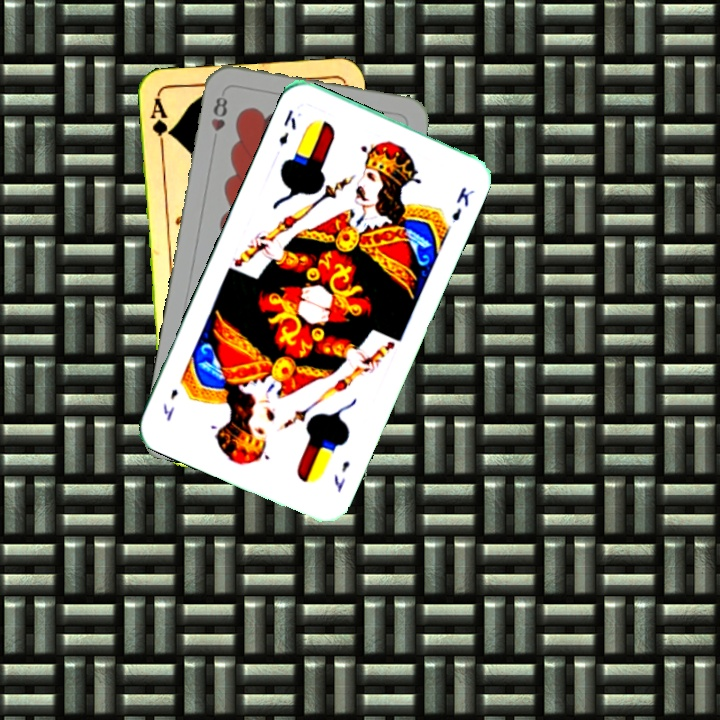EK: (274, 105, 299, 148), (329, 457, 353, 495)
GA: (146, 94, 174, 152)
H8: (207, 92, 230, 133)
